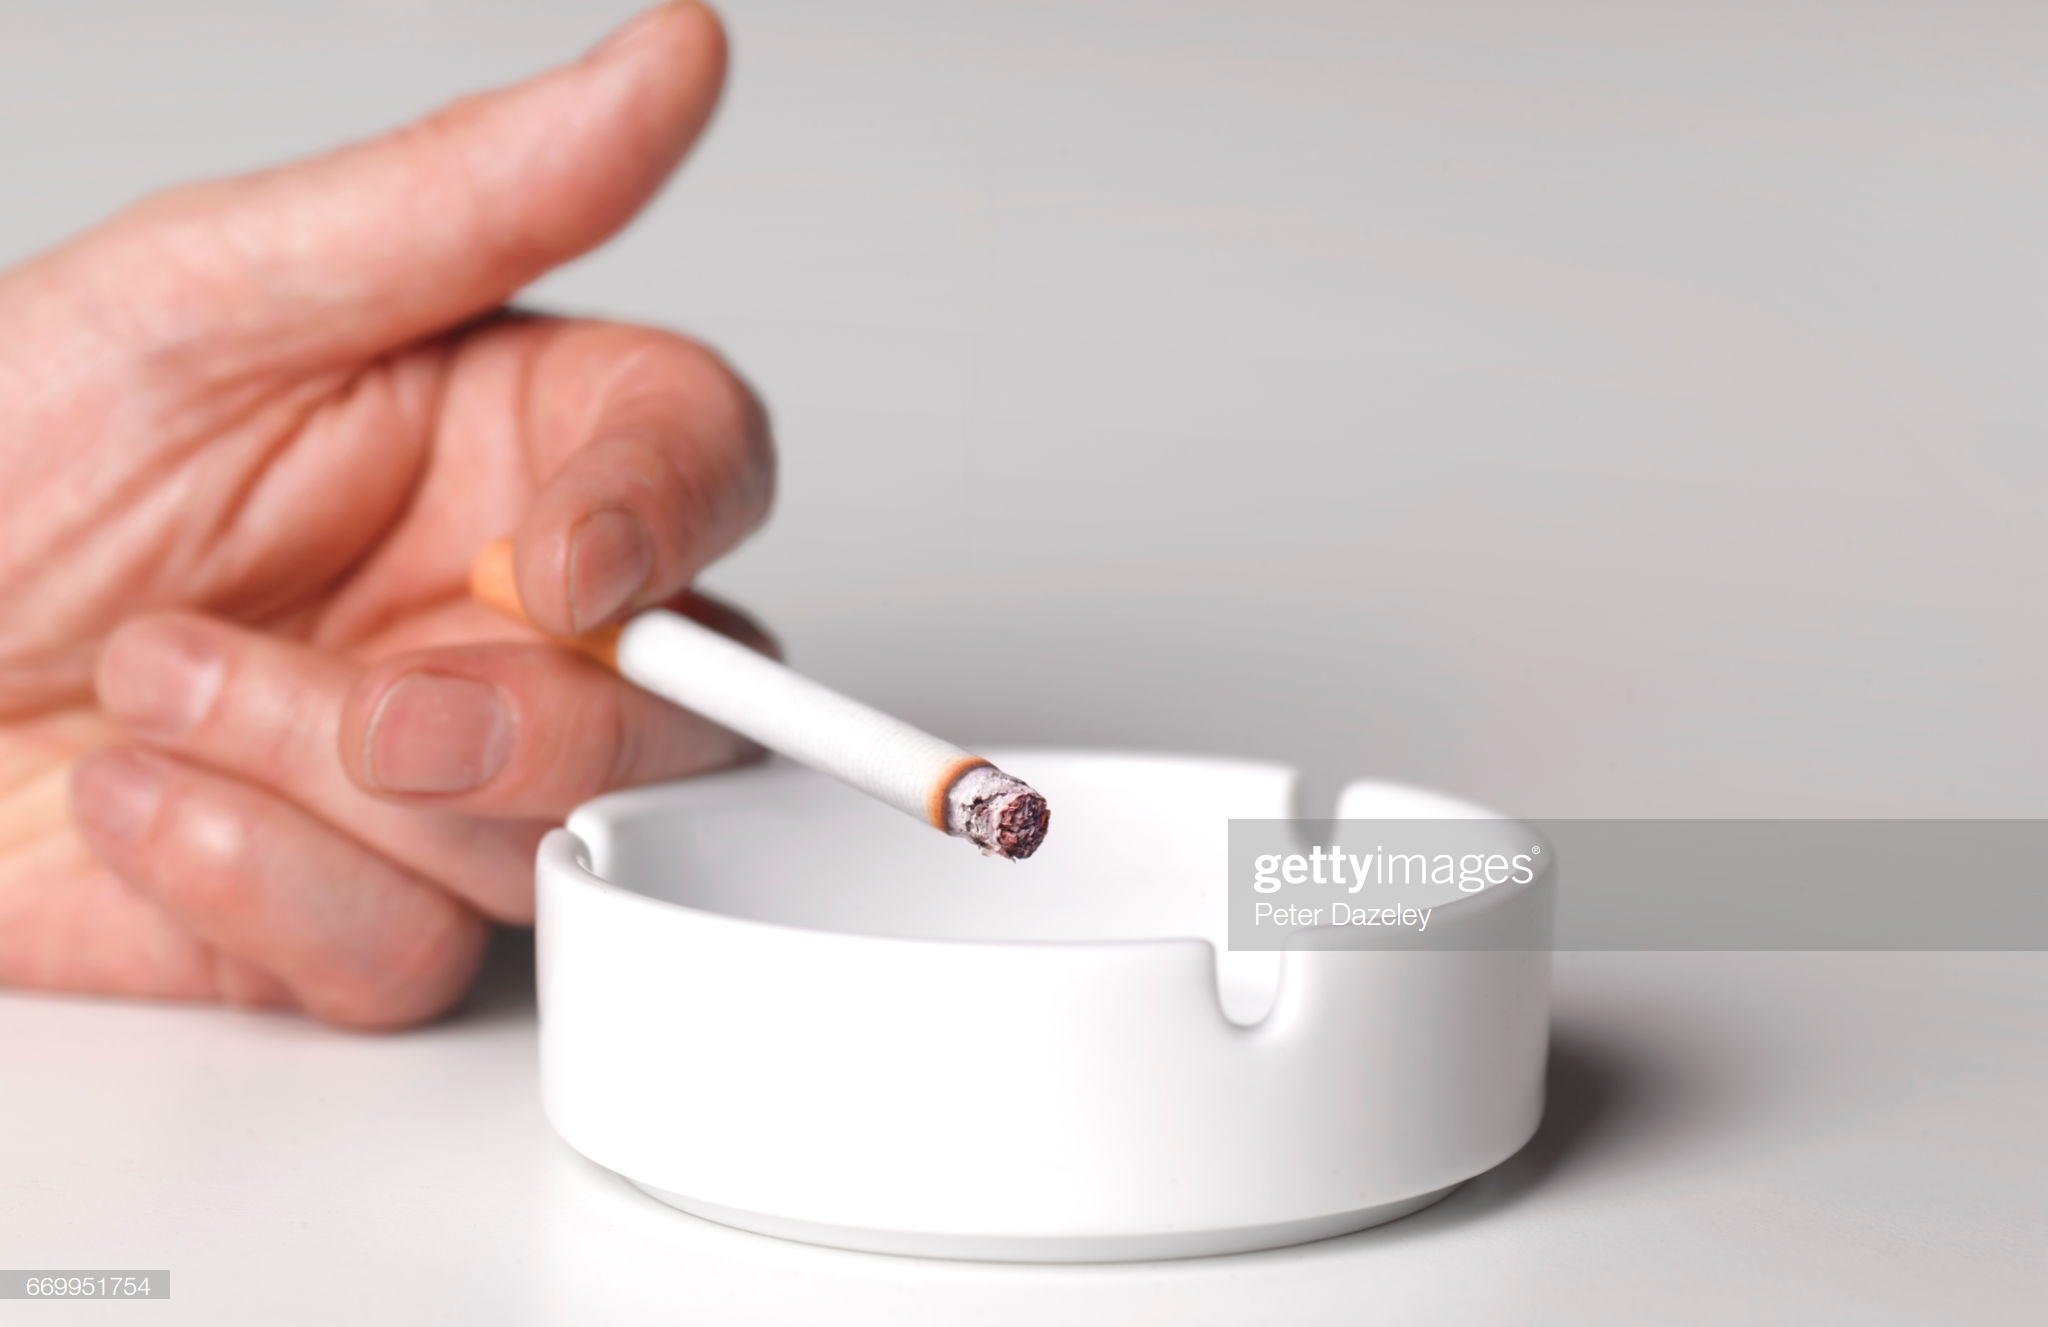sigaretta: (485, 530, 1018, 861)
